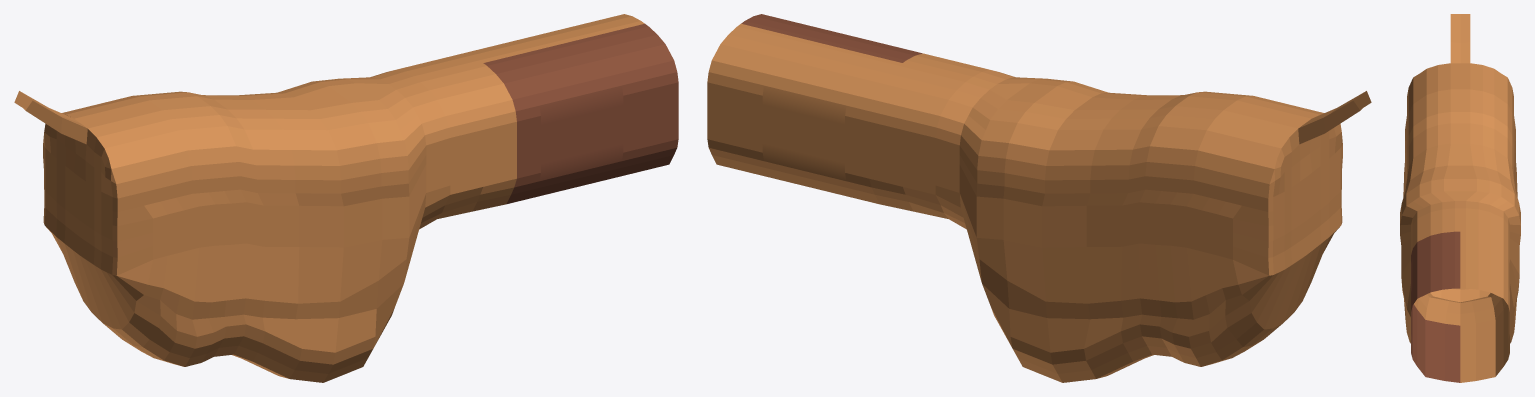
File: Ear Canal Turbosmoothed.FBX
The picture shows the model from 3 angles, left to right: view 1: azimuth 30°, elevation 25°; view 2: azimuth 150°, elevation 25°; view 3: azimuth 270°, elevation 25°; orthographic projection. The views are drawn at different scales.
Visible parts, largest first — view 1: Drum cover003; view 2: Drum cover003; view 3: Drum cover003.
Boxes of the visible parts, box(x1,y1,x2,y2) form: Drum cover003: box(14, 14, 678, 382); Drum cover003: box(707, 14, 1371, 382); Drum cover003: box(1400, 14, 1520, 382).
Size of the model in its own units: 70.19 by 36.81 by 16.34.
Materials: 2 (2 with a texture image).
